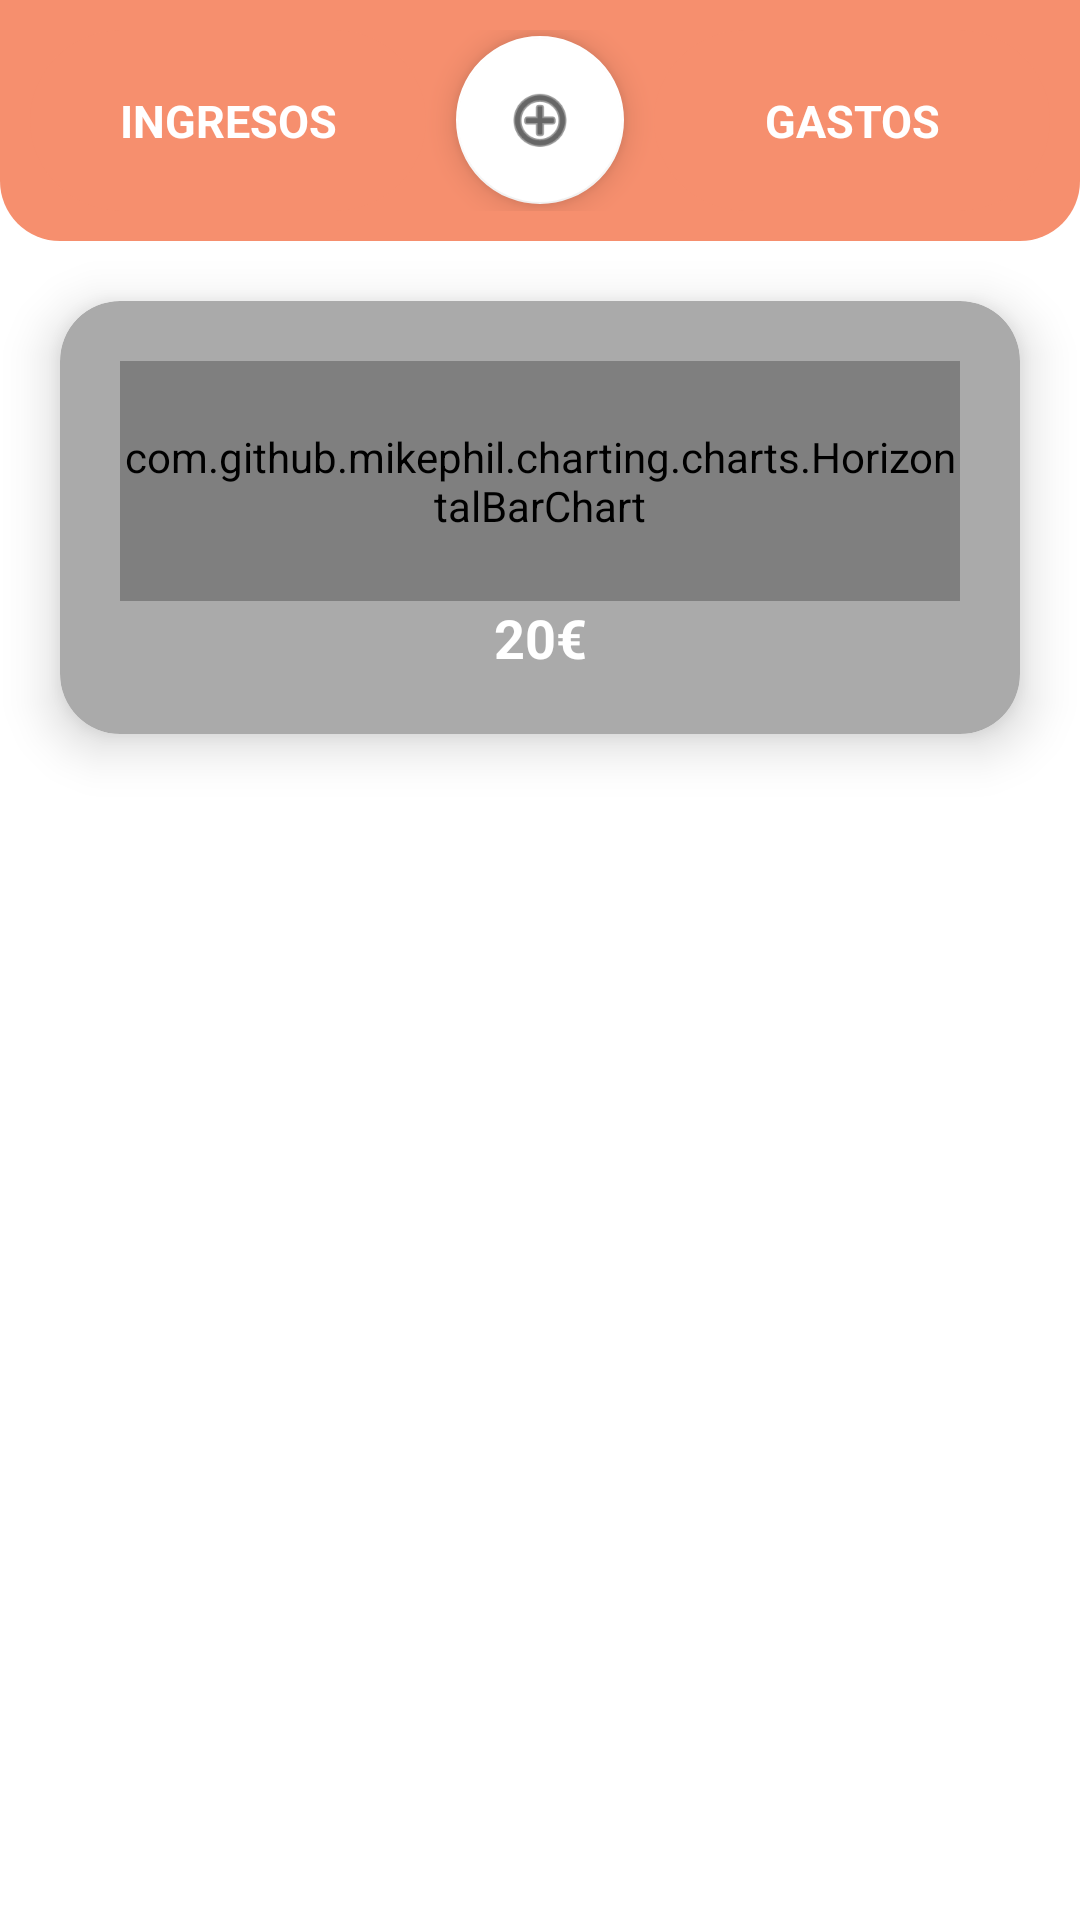

Where icons sit on this 1080px x 1920px app screen, as [left=x1, top=y1, right=x2, bottom=y2]:
add: [left=456, top=36, right=624, bottom=204]
